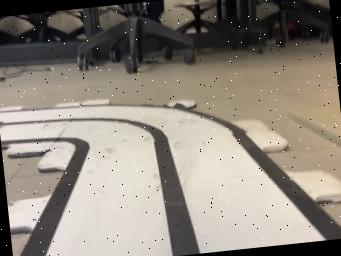street: (0, 102, 341, 256), (0, 102, 341, 256), (0, 102, 341, 256), (0, 102, 341, 256), (0, 102, 341, 256), (0, 102, 341, 256)
